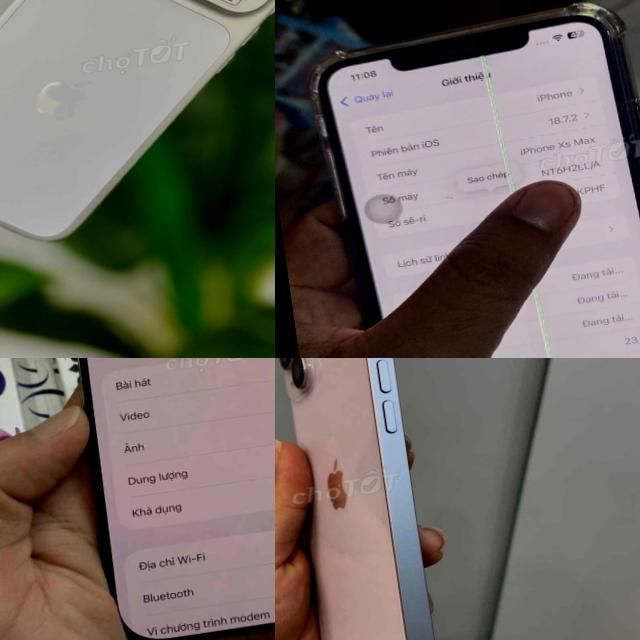scratch: (596, 23, 620, 48)
screen_defect: (476, 50, 522, 196), (524, 275, 586, 358)
